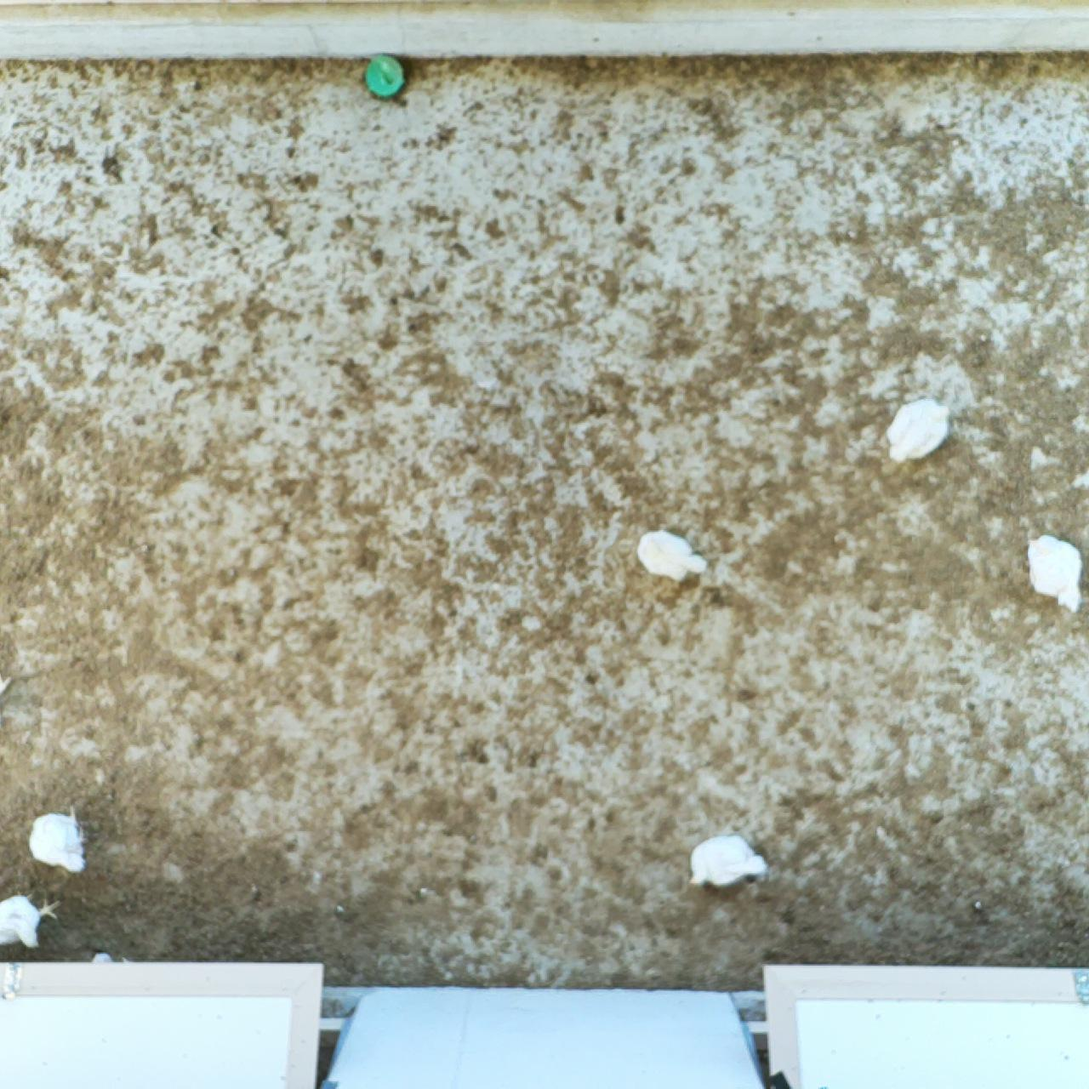chicken: (687, 830, 772, 898), (1023, 529, 1088, 616), (883, 393, 956, 468), (27, 803, 93, 880), (634, 526, 713, 587), (0, 887, 64, 953)
